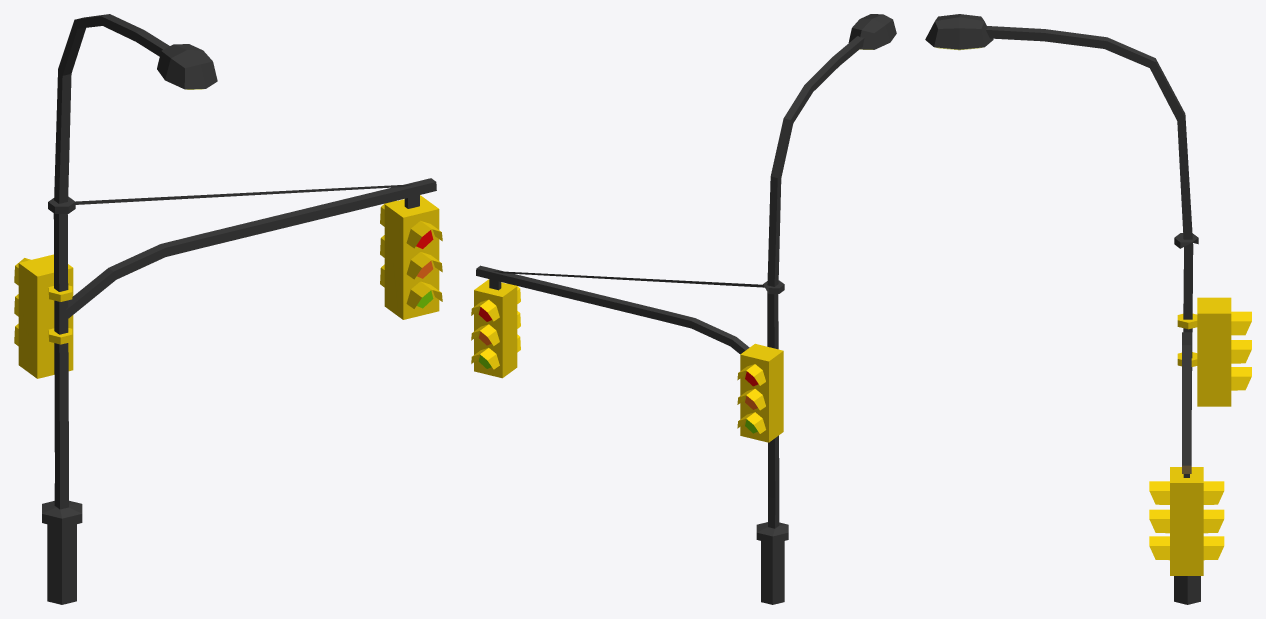
File: traffic_light.fbx
The picture shows the model from 3 angles, left to right: view 1: azimuth 30°, elevation 25°; view 2: azimuth 150°, elevation 25°; view 3: azimuth 270°, elevation 25°; orthographic projection. The views are drawn at different scales.
Visible parts, largest first — view 1: Mesh (2); view 2: Mesh (2); view 3: Mesh (2).
Part boxes in pixels (box(x1,y1,x2,y2)): Mesh (2): box(14, 14, 442, 604); Mesh (2): box(471, 14, 896, 604); Mesh (2): box(925, 14, 1251, 604).
Size of the model in its own units: 585 by 906 by 462.
